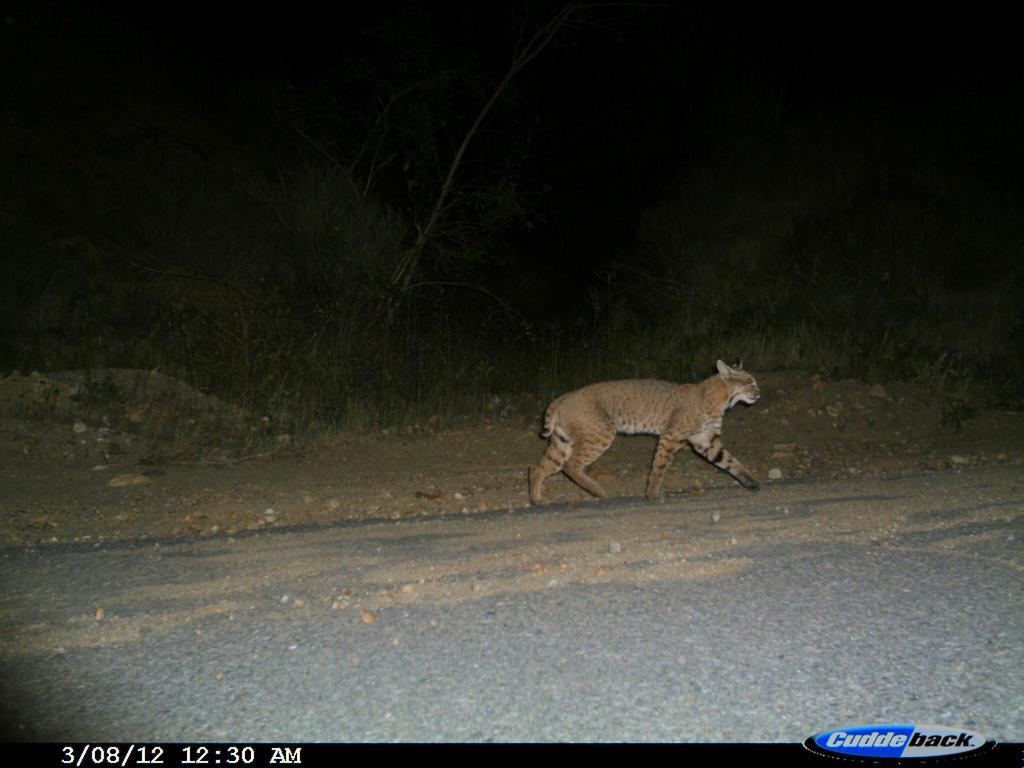bobcat: (511, 356, 779, 513)
